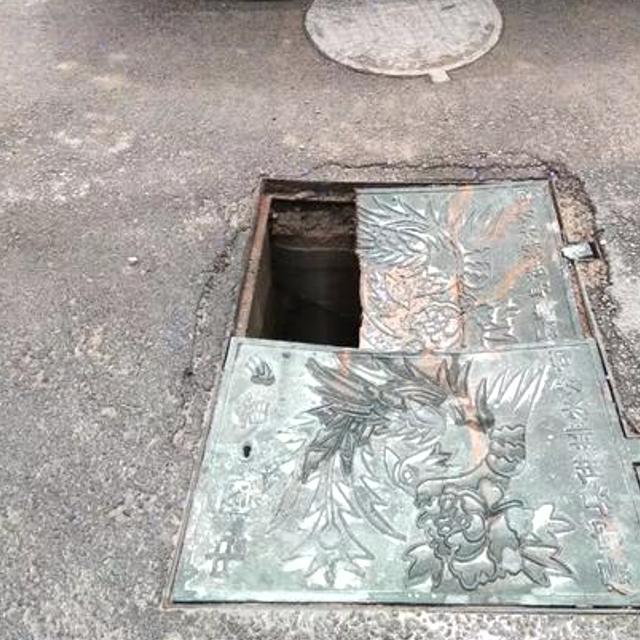lose: (151, 137, 640, 640)
